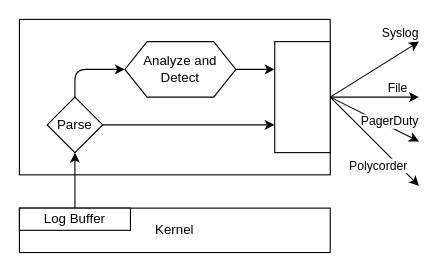
This 447x272 diagram has some shape labels left out. The shapes that lost their labels are listed below. From the top down, each one's box as (x1, y1, x2, y2) in pixels, then its label:
(18, 18, 330, 175): Zerotect
(274, 41, 330, 153): Emitter
